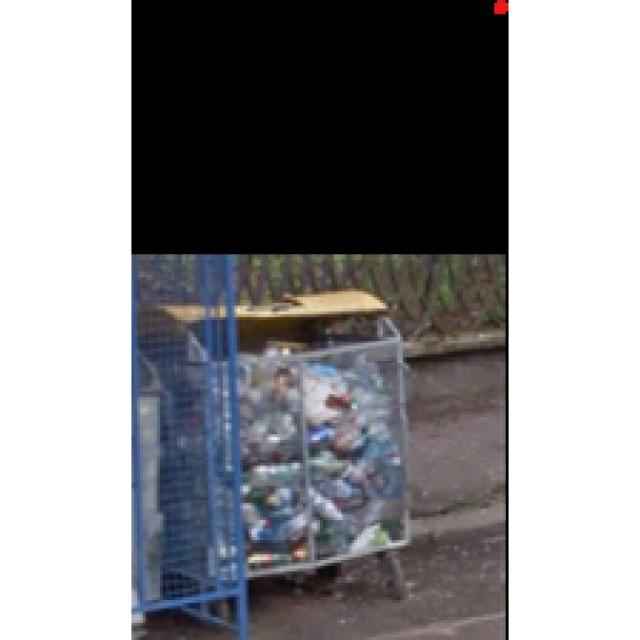plastic trash bin: (128, 290, 420, 632)
